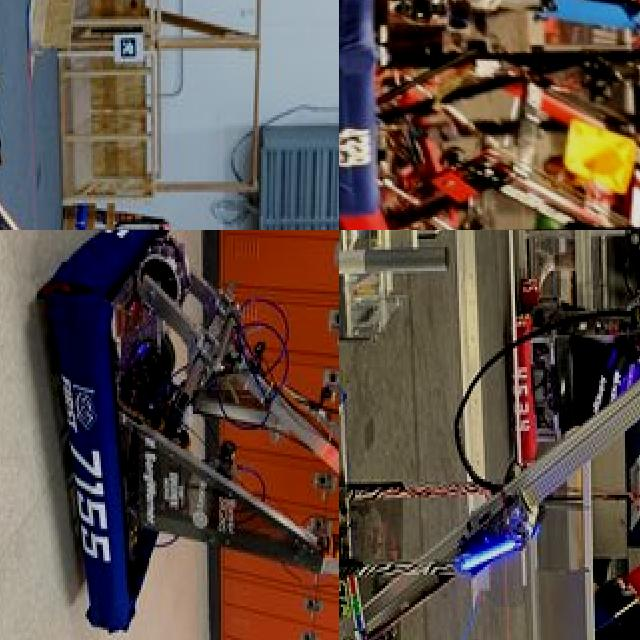FRC-Robots: (35, 230, 339, 640), (339, 230, 640, 640), (339, 0, 640, 197), (0, 104, 338, 230), (346, 110, 640, 230)
